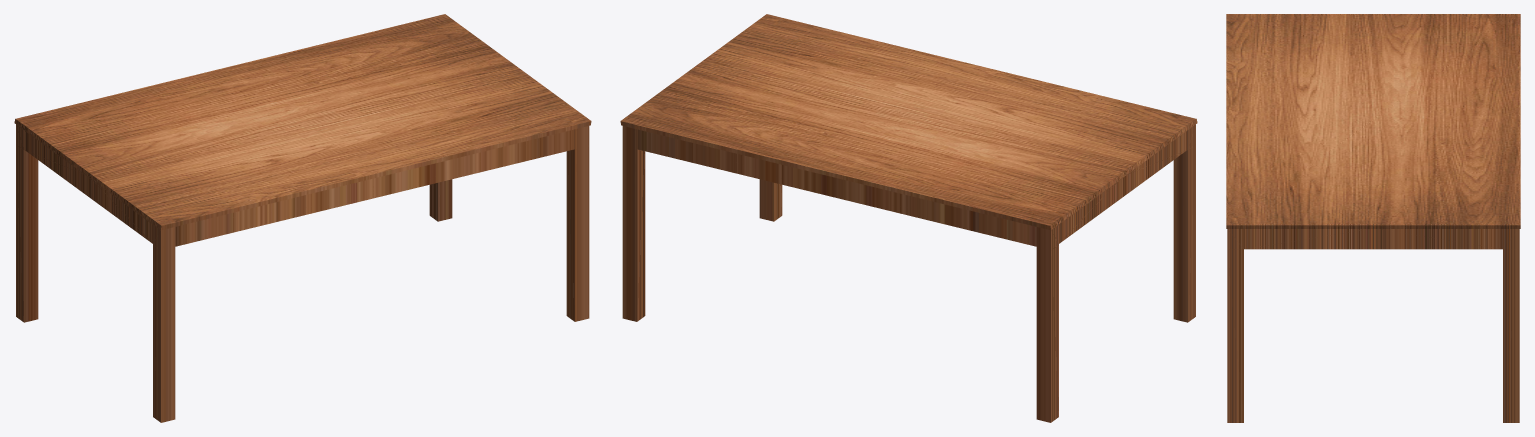
The model's file is table.fbx.
3 renders of one model, left to right at view 1: azimuth 30°, elevation 25°; view 2: azimuth 150°, elevation 25°; view 3: azimuth 270°, elevation 25°, orthographic.
Parts seen in each view (by area): view 1: Plane.001; view 2: Plane.001; view 3: Plane.001.
Boxes of the visible parts, x1,y1,x2,y2 form: Plane.001: [14, 14, 591, 422]; Plane.001: [620, 14, 1197, 422]; Plane.001: [1226, 14, 1520, 422].
Bounding box in the file's own units: 7538 × 3304 × 4434.
Materials: 1 (1 with a texture image).
